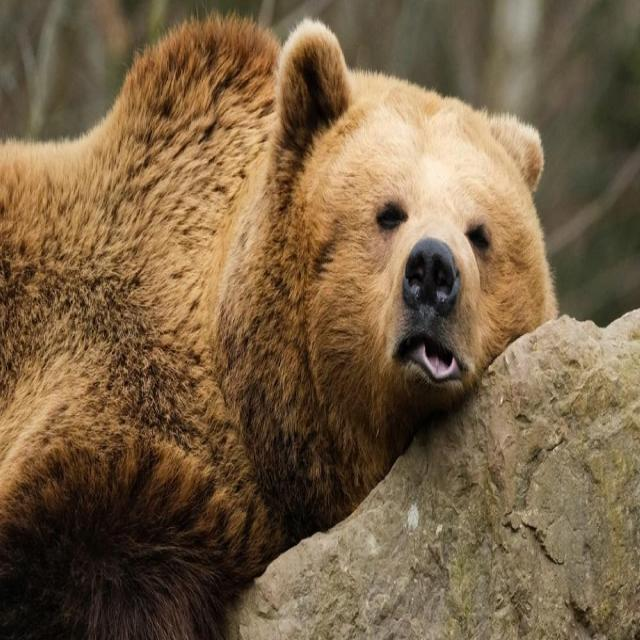Bear: (0, 15, 560, 640)
